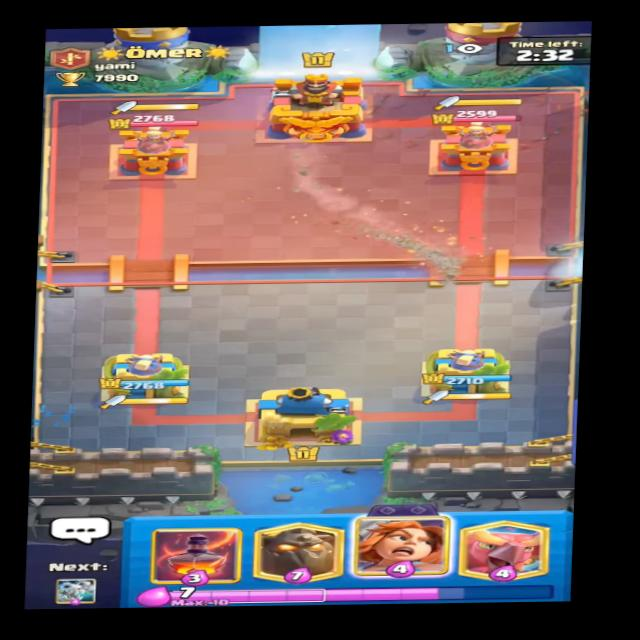trail: (344, 212, 468, 289)
